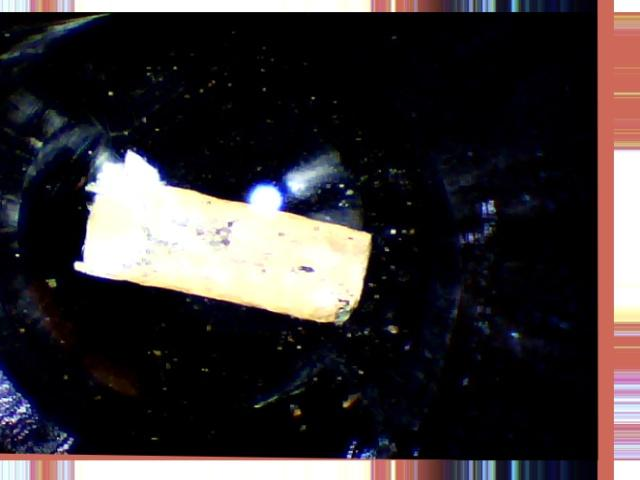megot: (61, 142, 377, 332)
